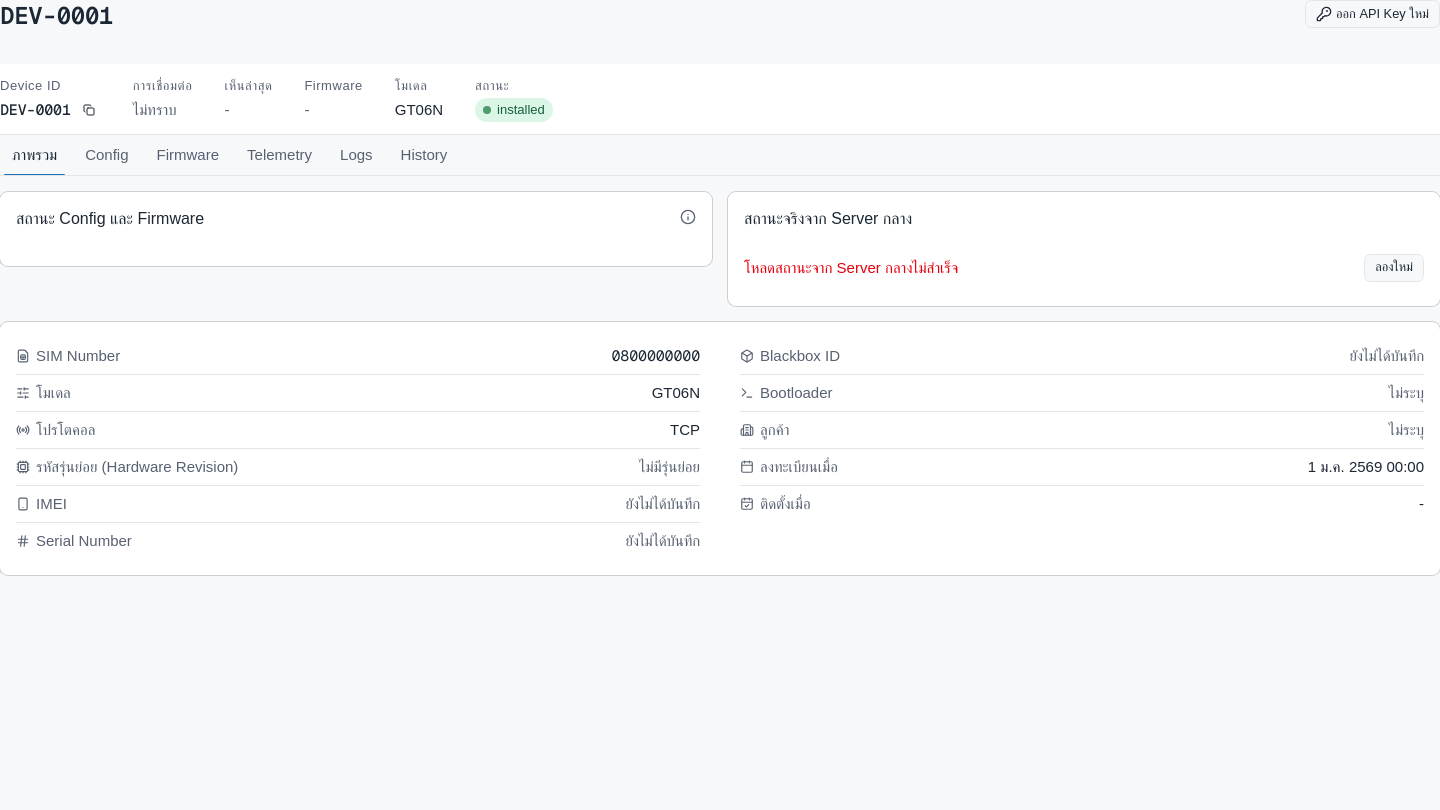
Test: DeviceDetailView › Admin: ต้องยืนยันก่อน แล้วโชว์ key ใหม่
The width and height of the screenshot is (1440, 810).
Click the button "ออก API Key ใหม่". click: (1372, 14)
box: x1=1305 y1=0 x2=1439 y2=28
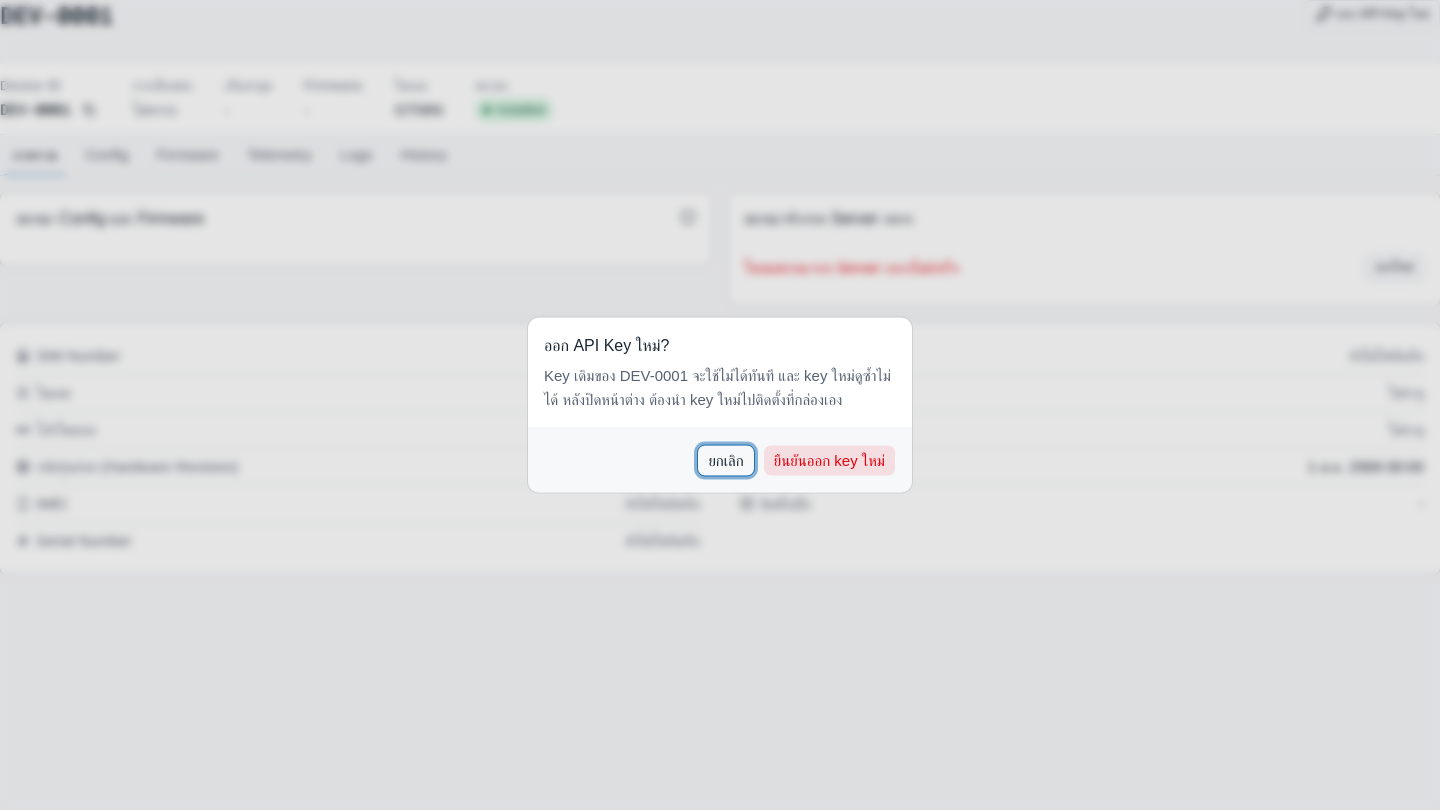
Click the button "ยืนยันออก key ใหม่". click: (829, 460)
box: x1=763 y1=444 x2=896 y2=476
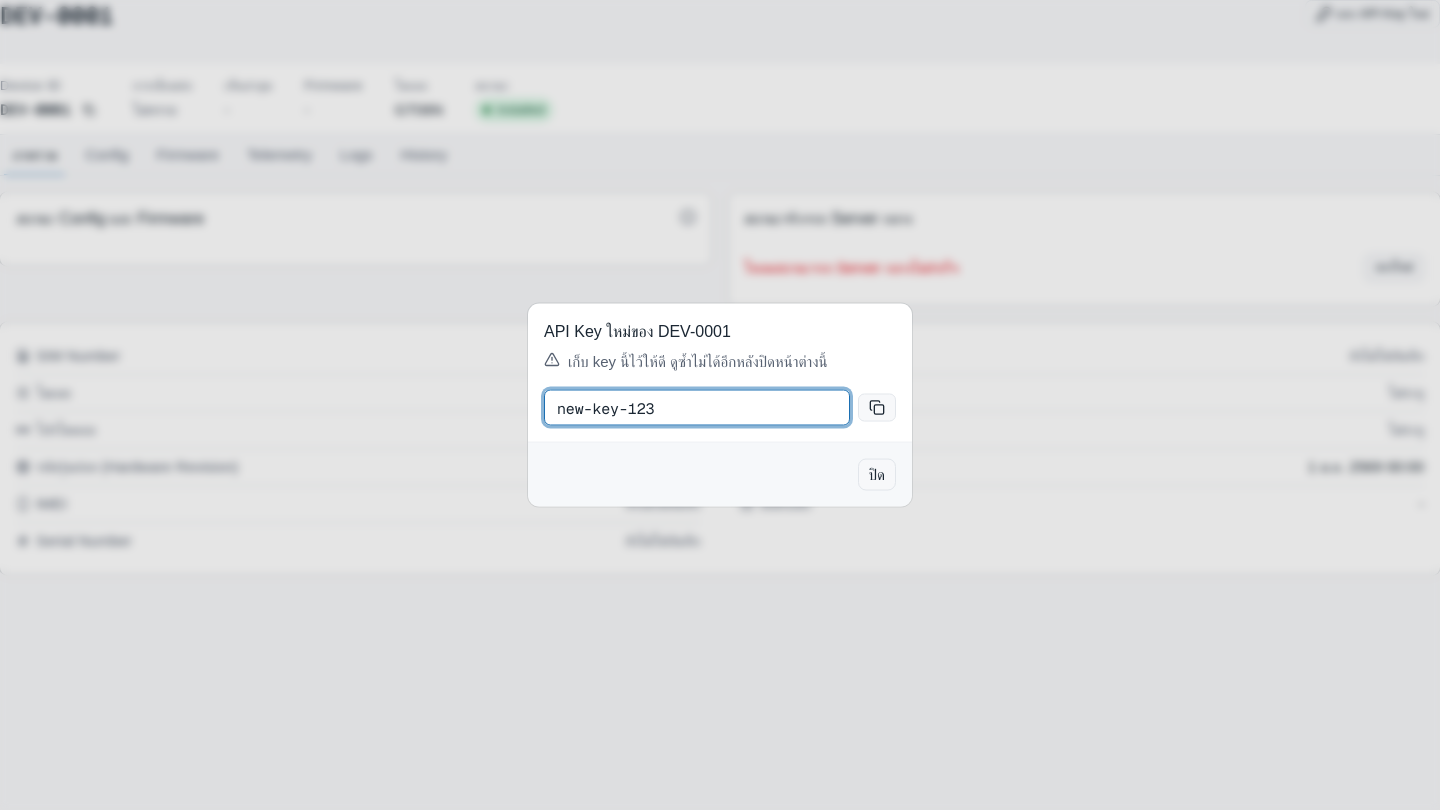
expect the field showing "new-key-123" is shown: met, box x1=544 y1=390 x2=850 y2=426
